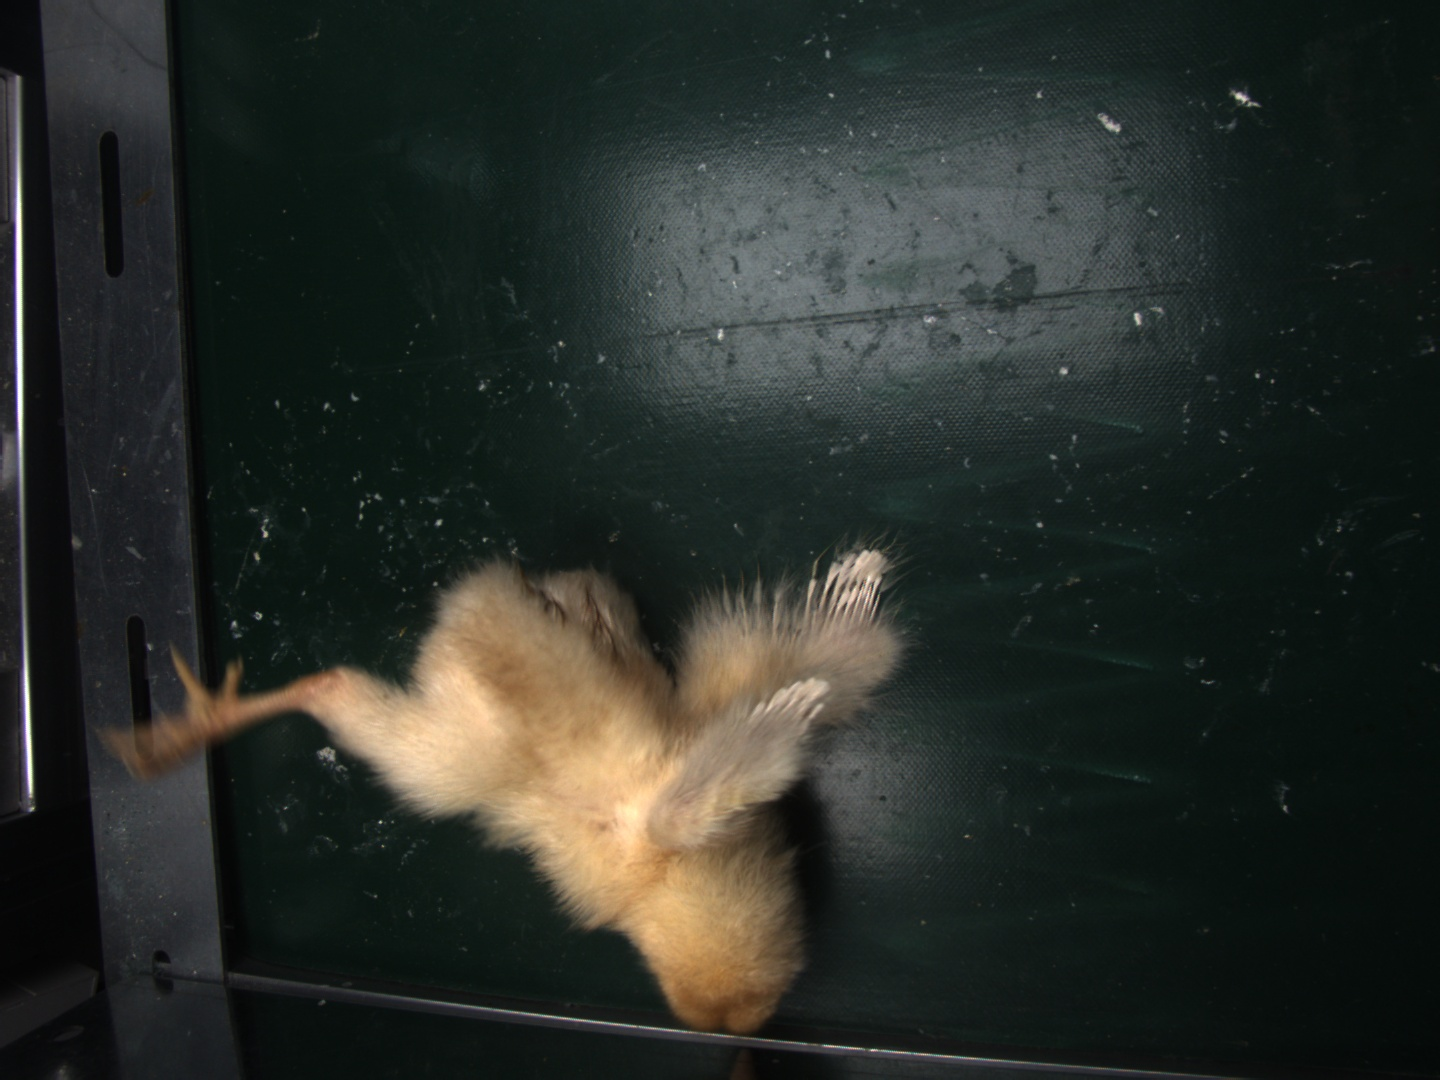female: (813, 548, 892, 626)
